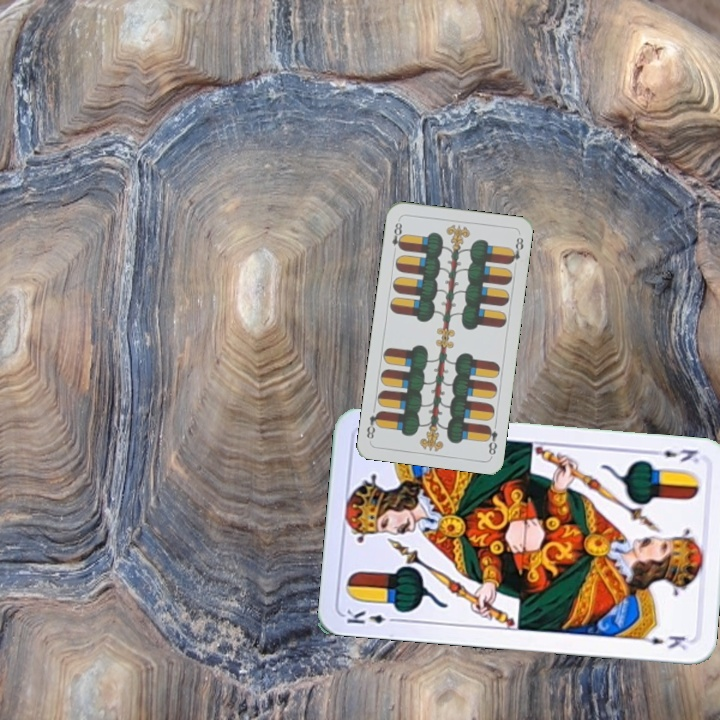E8: (388, 216, 406, 256), (482, 421, 500, 457)
EK: (647, 442, 702, 465), (342, 606, 401, 627)
